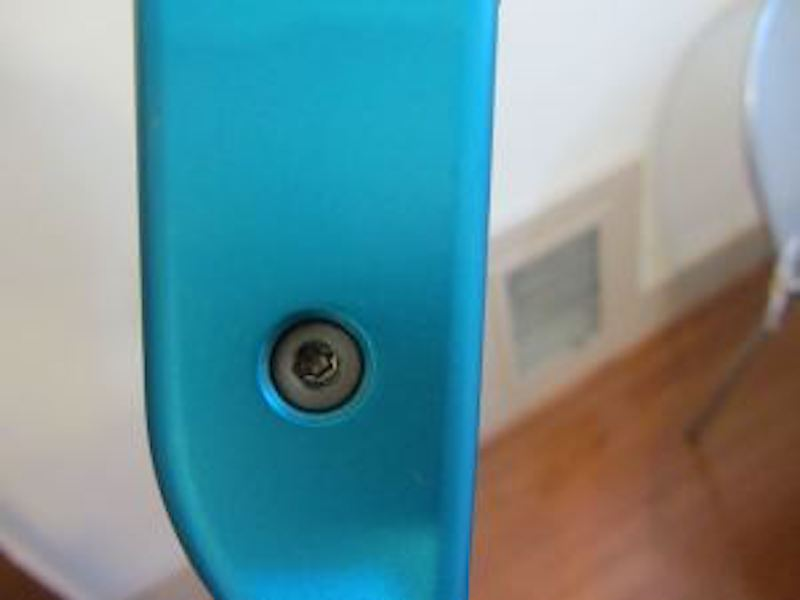screw: (266, 315, 367, 416)
